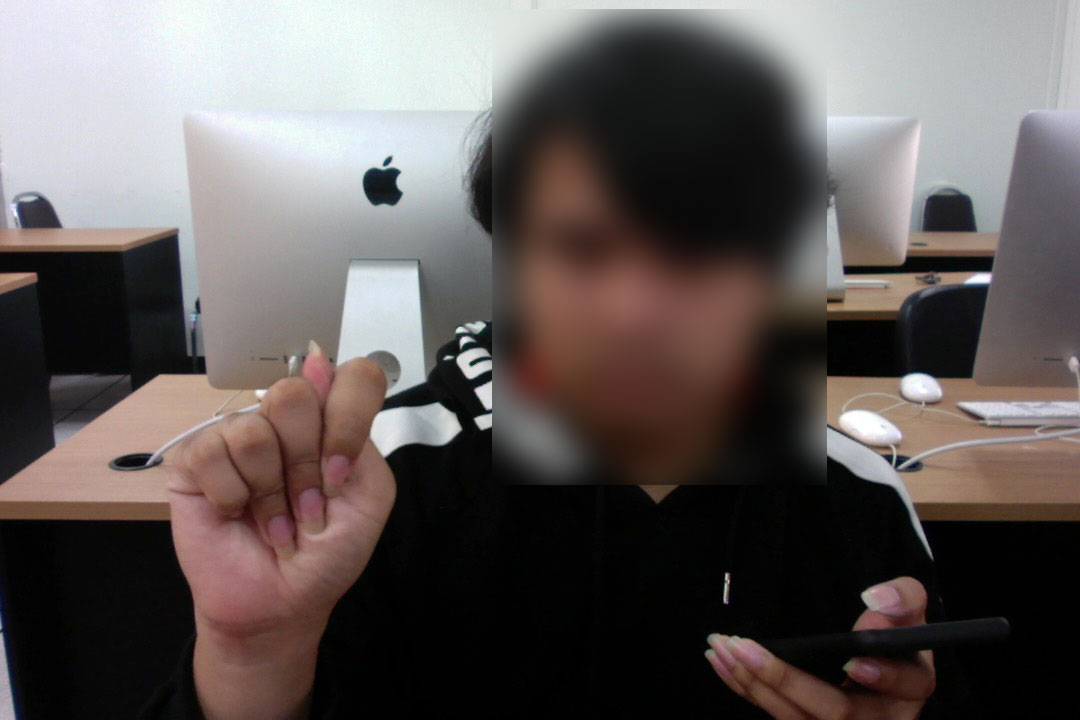tor: (160, 337, 400, 654)
